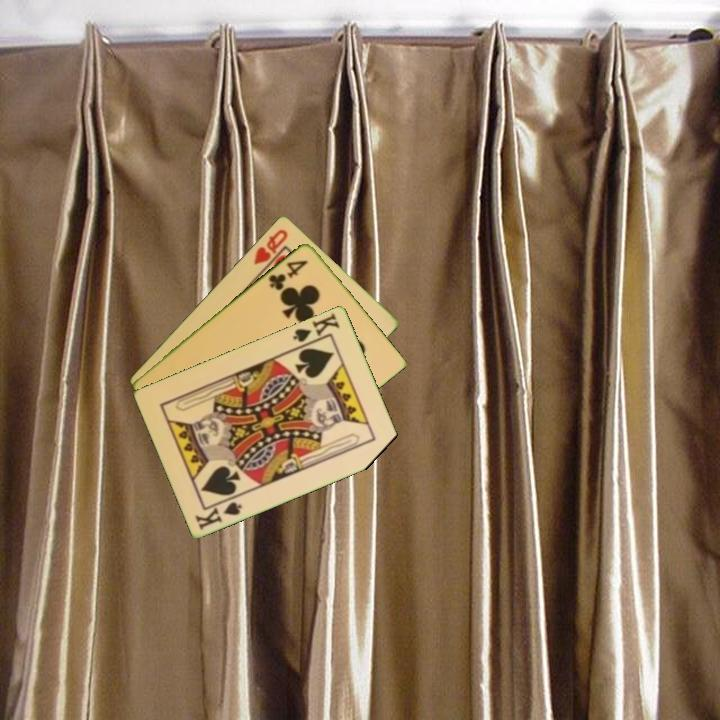4c: (265, 256, 311, 293)
Ks: (289, 309, 342, 345), (192, 498, 245, 532)
Qh: (250, 225, 291, 267)
